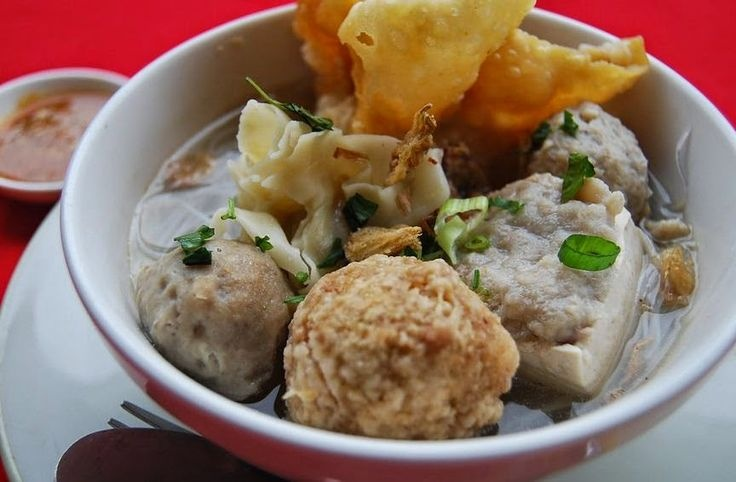bakso_malang: (133, 1, 697, 435)
